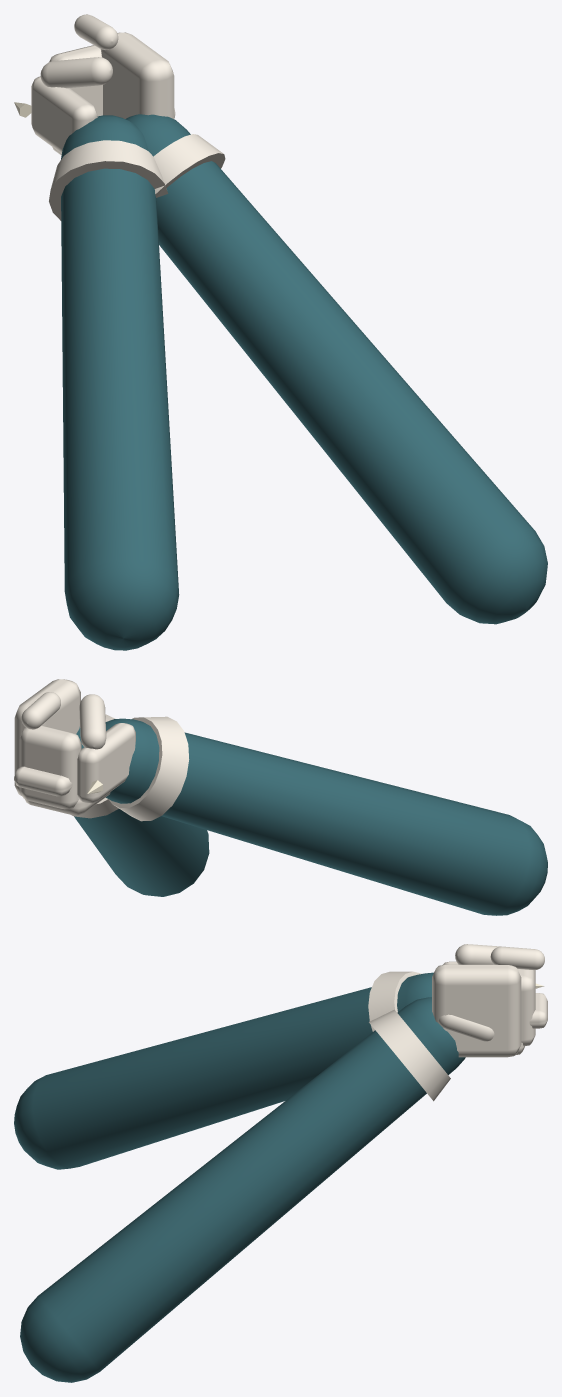
The model's file is gem.glb.
3 renders of one model, top to bottom at view 1: azimuth 30°, elevation 25°; view 2: azimuth 150°, elevation 25°; view 3: azimuth 270°, elevation 25°, orthographic. The views are drawn at different scales.
Visible parts, largest first — view 1: forearm_R, forearm_L, palm_R, cuff_L, fingers_L, cuff_R, thumb_R, trigger_finger_R, fingers_R; view 2: forearm_L, forearm_R, cuff_L, fingers_R, fingers_L, palm_R, thumb_R, knuckles_R, trigger_finger_R, cuff_R, palm_L; view 3: forearm_R, forearm_L, palm_R, cuff_R, cuff_L, fingers_R, trigger_finger_R, thumb_L, thumb_R.
Part boxes in pixels (x1=…): forearm_R: x1=125, y1=114, x2=547, y2=624; forearm_L: x1=61, y1=115, x2=179, y2=650; palm_R: x1=100, y1=32, x2=174, y2=118; cuff_L: x1=49, y1=140, x2=168, y2=220; fingers_L: x1=31, y1=76, x2=97, y2=153; cuff_R: x1=153, y1=134, x2=225, y2=197; thumb_R: x1=40, y1=57, x2=112, y2=88; trigger_finger_R: x1=74, y1=14, x2=118, y2=49; fingers_R: x1=49, y1=45, x2=102, y2=116; forearm_L: x1=105, y1=718, x2=547, y2=915; forearm_R: x1=74, y1=727, x2=209, y2=896; cuff_L: x1=108, y1=716, x2=189, y2=821; fingers_R: x1=19, y1=725, x2=81, y2=809; fingers_L: x1=77, y1=723, x2=135, y2=803; palm_R: x1=14, y1=679, x2=80, y2=796; thumb_R: x1=79, y1=694, x2=106, y2=749; knuckles_R: x1=14, y1=766, x2=72, y2=796; trigger_finger_R: x1=21, y1=692, x2=60, y2=729; cuff_R: x1=71, y1=714, x2=118, y2=818; palm_L: x1=25, y1=792, x2=110, y2=815; forearm_R: x1=20, y1=997, x2=465, y2=1382; forearm_L: x1=14, y1=972, x2=433, y2=1169; palm_R: x1=432, y1=964, x2=521, y2=1057; cuff_R: x1=369, y1=1009, x2=450, y2=1101; cuff_L: x1=368, y1=971, x2=421, y2=1031; fingers_R: x1=517, y1=969, x2=535, y2=1046; trigger_finger_R: x1=490, y1=946, x2=544, y2=970; thumb_L: x1=439, y1=1014, x2=494, y2=1041; thumb_R: x1=455, y1=944, x2=501, y2=964.
Bounding box in the file's own units: 0.4161 × 0.3715 × 0.4788.
